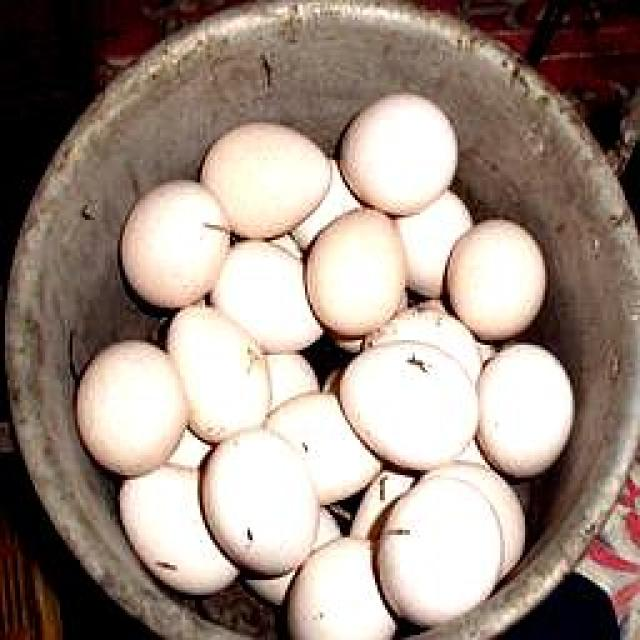Eggs: (376, 470, 511, 625), (340, 338, 481, 472), (198, 428, 321, 578), (118, 462, 243, 597), (75, 338, 187, 478), (200, 121, 332, 239), (339, 91, 462, 216), (167, 306, 274, 444), (474, 341, 577, 479), (120, 180, 228, 308), (304, 208, 408, 339), (444, 218, 550, 342), (265, 389, 377, 506), (211, 240, 323, 356), (286, 536, 399, 640), (361, 308, 487, 386), (394, 188, 477, 300)
